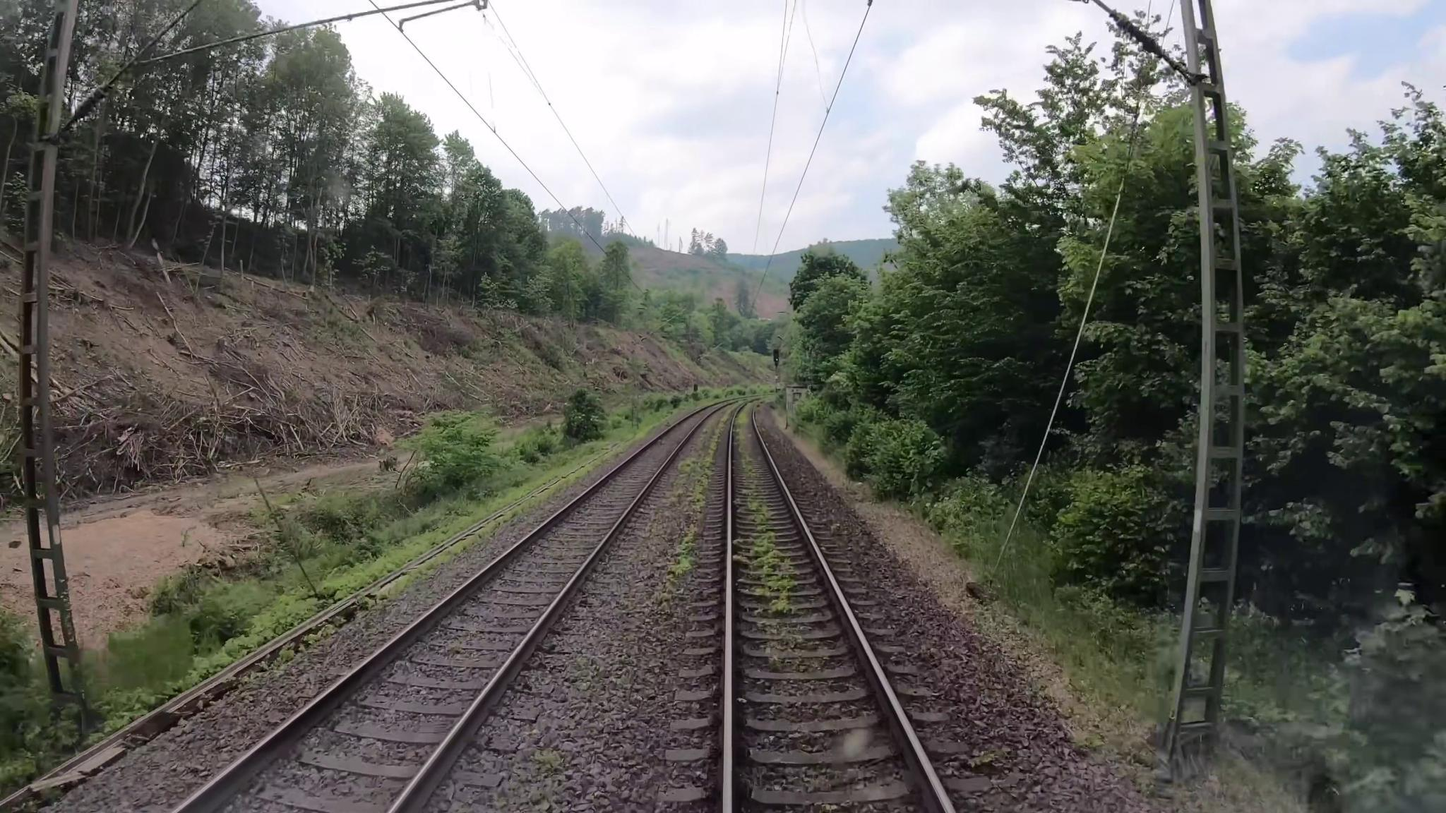Plant: (266, 410, 691, 676), (735, 403, 825, 674), (627, 406, 733, 623)
